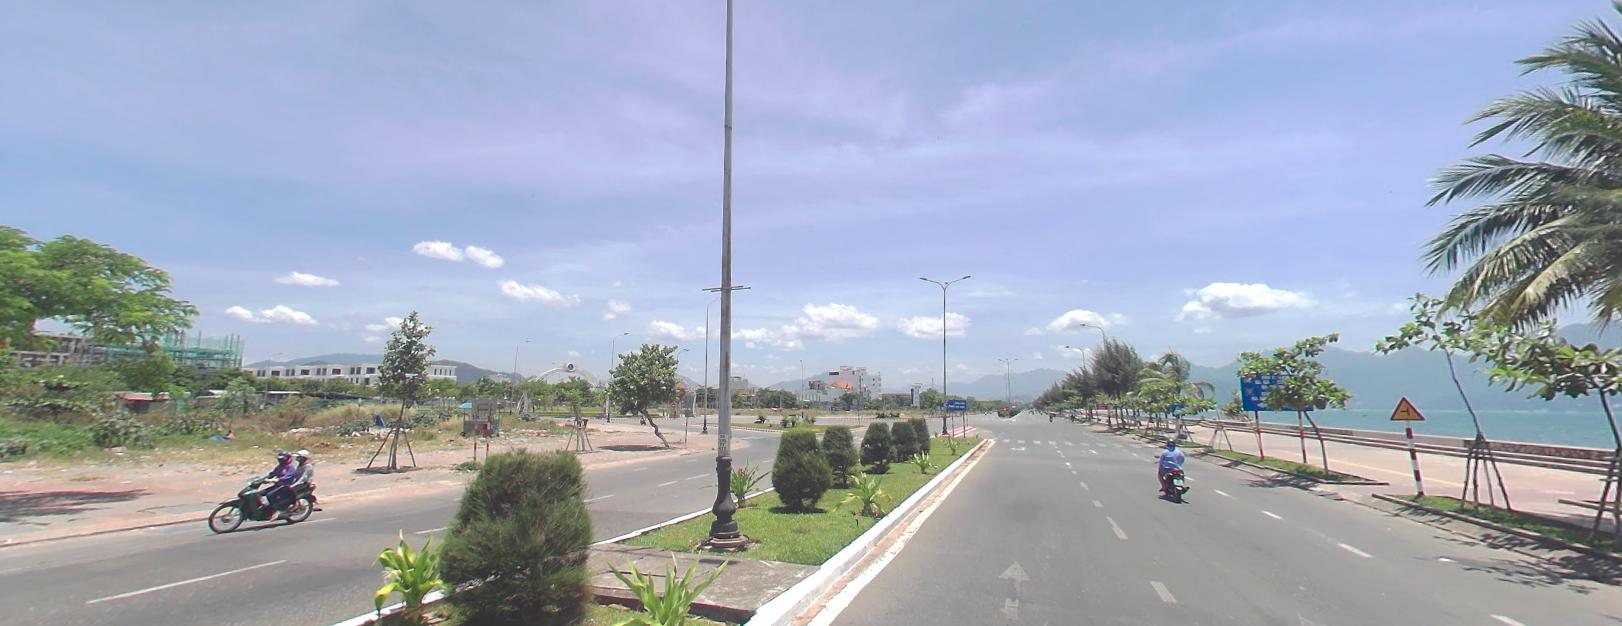Nguy hiem: (1385, 391, 1431, 426)
